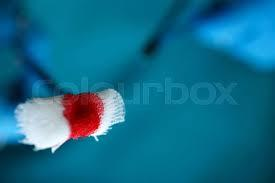cotton: (16, 89, 124, 151)
